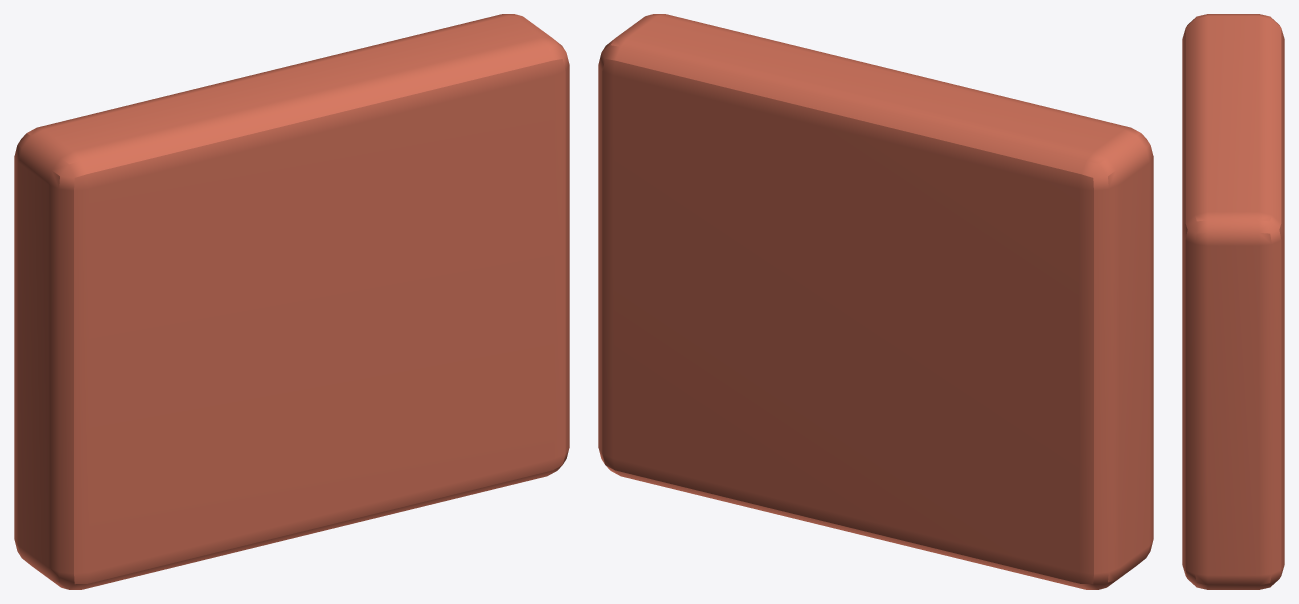
Rendered from Gate.fbx.
3 renders of one model, left to right at view 1: azimuth 30°, elevation 25°; view 2: azimuth 150°, elevation 25°; view 3: azimuth 270°, elevation 25°, orthographic. The views are drawn at different scales.
Visible parts, largest first — view 1: Gate; view 2: Gate; view 3: Gate.
Boxes of the visible parts, x1=… form: Gate: x1=14, y1=14, x2=569, y2=589; Gate: x1=598, y1=14, x2=1153, y2=589; Gate: x1=1182, y1=14, x2=1284, y2=589.
Size of the model in its own units: 100 by 80.86 by 20.
